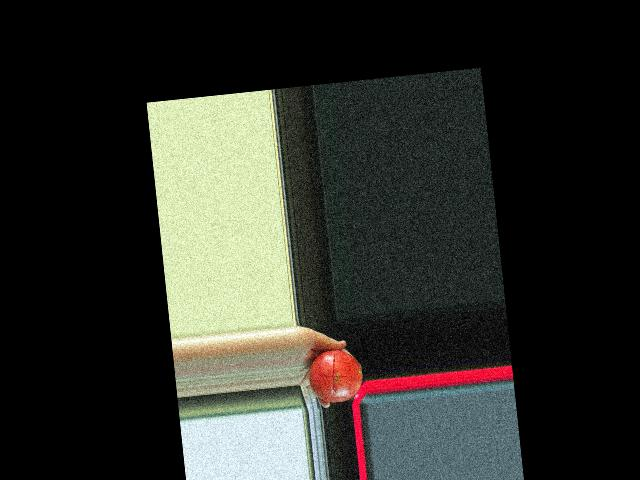tomato: (305, 347, 364, 405)
